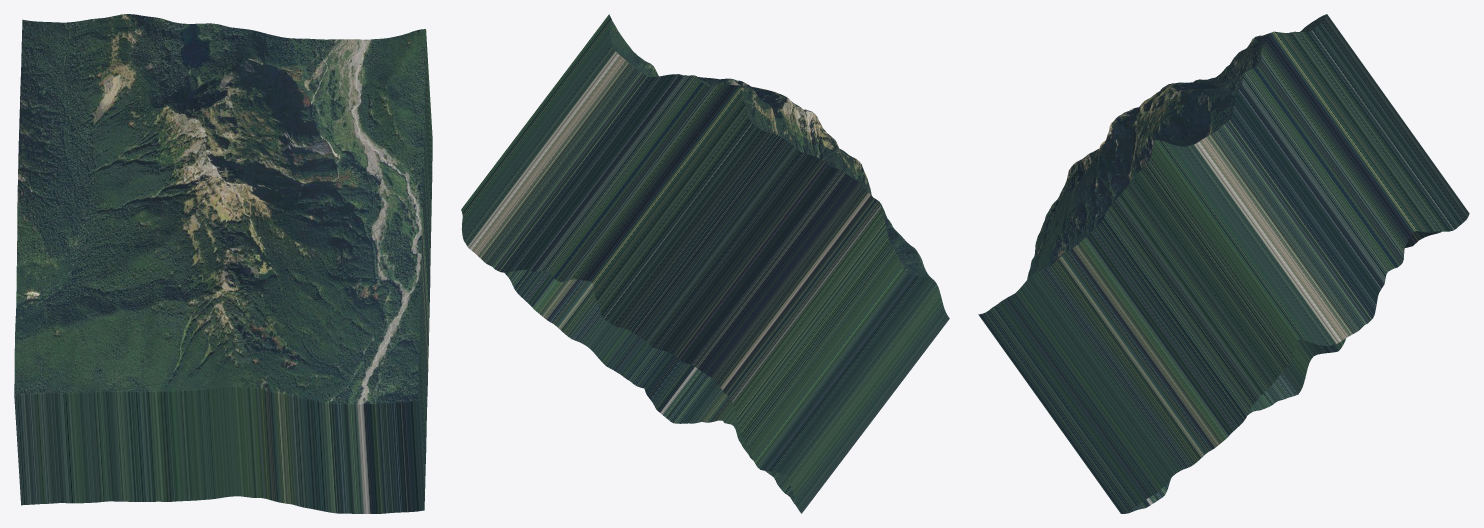
The picture shows the model from 3 angles, left to right: view 1: azimuth 30°, elevation 25°; view 2: azimuth 150°, elevation 25°; view 3: azimuth 270°, elevation 25°; orthographic projection. The views are drawn at different scales.
Bounding box in the file's own units: 5901 × 5463 × 6011.
1 material, 1 textured.
